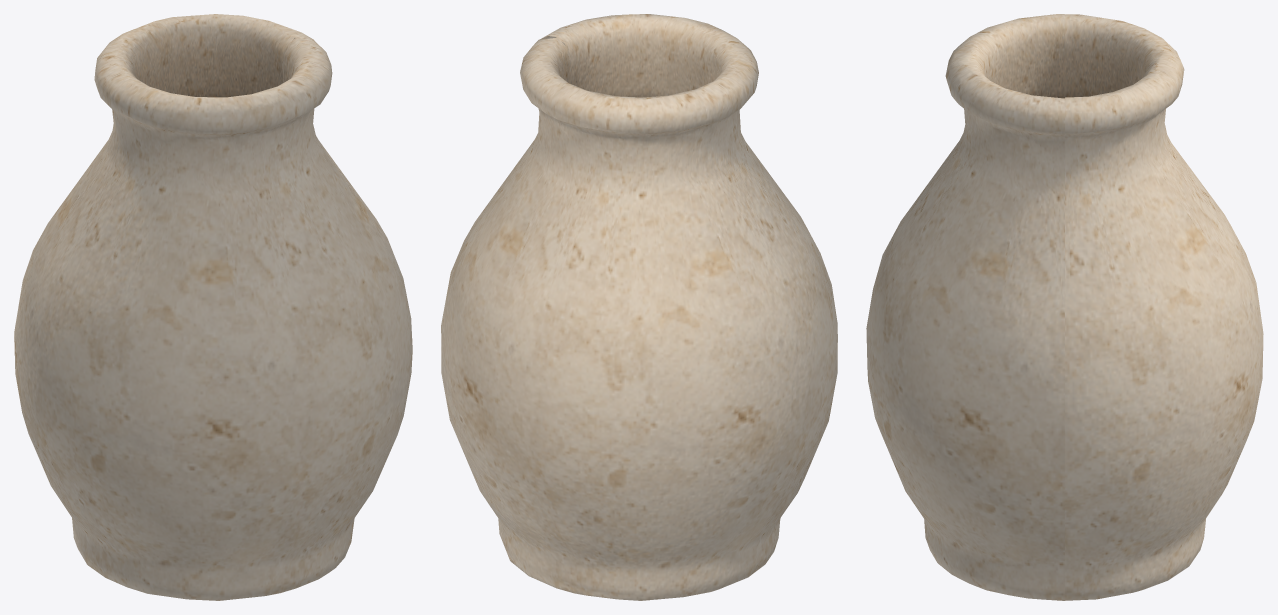
Rendered from boop-vase-small-white-baked.glb.
3 renders of one model, left to right at view 1: azimuth 30°, elevation 25°; view 2: azimuth 150°, elevation 25°; view 3: azimuth 270°, elevation 25°, orthographic.
Visible parts, largest first — view 1: vase-small-white; view 2: vase-small-white; view 3: vase-small-white.
Boxes of the visible parts, x1=… form: vase-small-white: x1=14, y1=14, x2=412, y2=600; vase-small-white: x1=441, y1=14, x2=837, y2=600; vase-small-white: x1=866, y1=14, x2=1263, y2=600.
Bounding box in the file's own units: 0.0167 × 0.0226 × 0.0166.
1 material, 1 textured.
